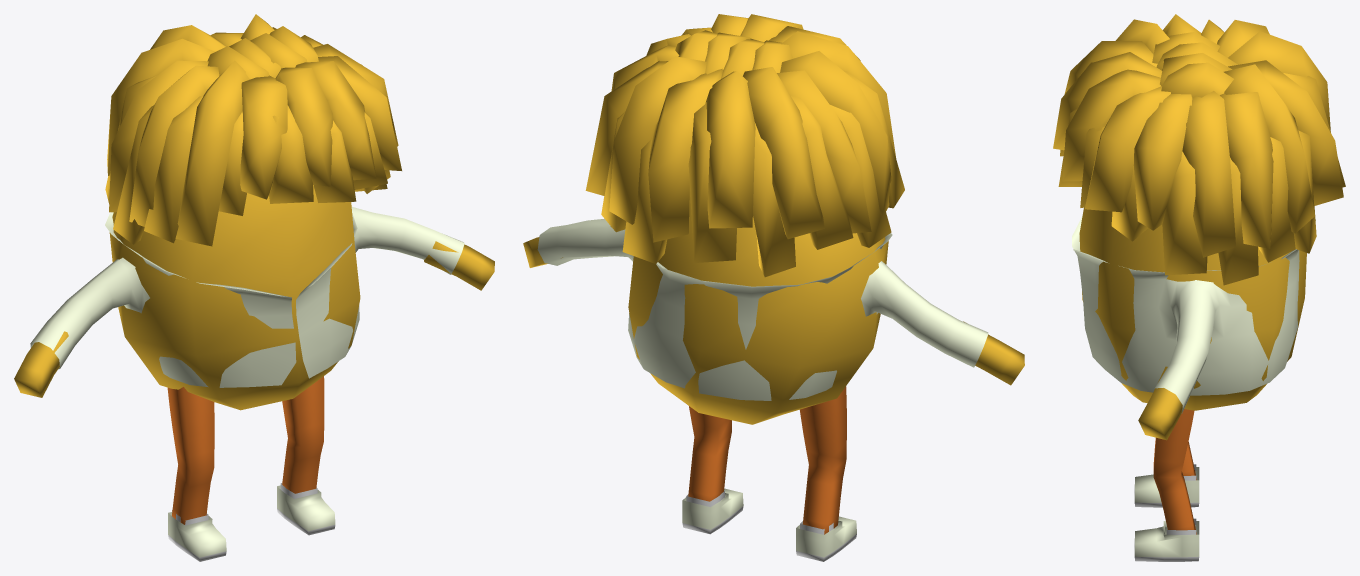
The model's file is mango_C.fbx.
3 renders of one model, left to right at view 1: azimuth 30°, elevation 25°; view 2: azimuth 150°, elevation 25°; view 3: azimuth 270°, elevation 25°, orthographic. The views are drawn at different scales.
Parts seen in each view (by area): view 1: mango_C; view 2: mango_C; view 3: mango_C.
Part boxes in pixels (x1=…): mango_C: x1=14, y1=14, x2=494, y2=561; mango_C: x1=523, y1=14, x2=1024, y2=561; mango_C: x1=1053, y1=14, x2=1345, y2=561.
Size of the model in its own units: 223 by 214 by 115.
